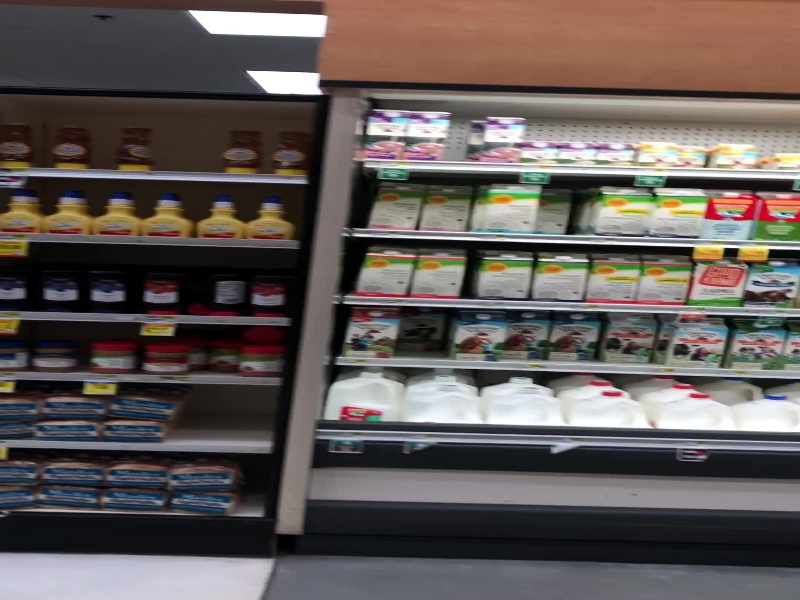empty_shelf_space: (181, 385, 275, 444)
